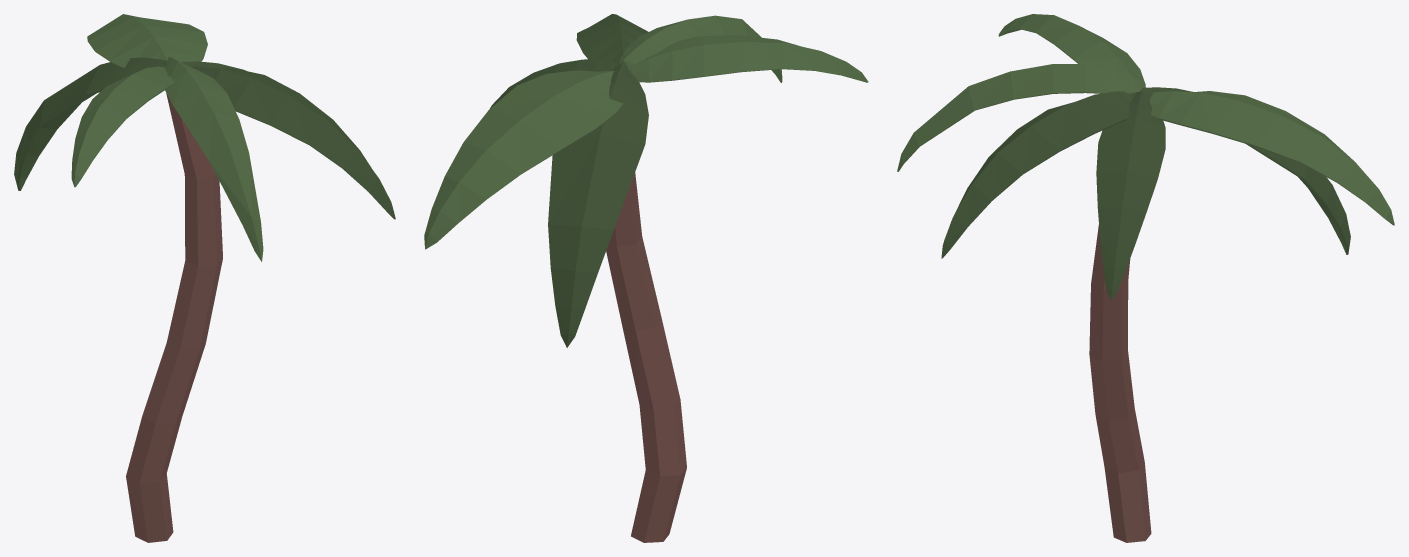
The model's file is PalmTree_2.glb.
3 renders of one model, left to right at view 1: azimuth 30°, elevation 25°; view 2: azimuth 150°, elevation 25°; view 3: azimuth 270°, elevation 25°, orthographic. The views are drawn at different scales.
Parts seen in each view (by area): view 1: PalmTree_2; view 2: PalmTree_2; view 3: PalmTree_2.
Part boxes in pixels (left/top/right/bottom): PalmTree_2: left=14, top=14, right=395, bottom=542; PalmTree_2: left=424, top=14, right=868, bottom=542; PalmTree_2: left=897, top=14, right=1394, bottom=542.
Bounding box in the file's own units: 1.09 × 1.52 × 1.44.
